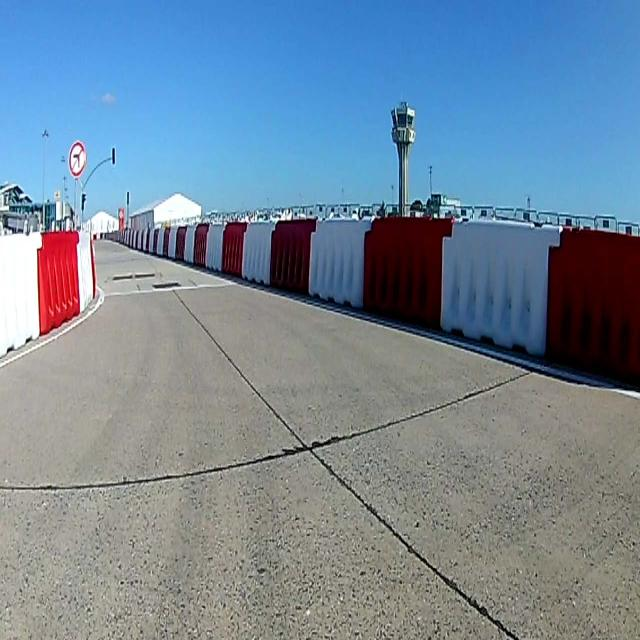soladonulmez: (68, 139, 88, 177)
